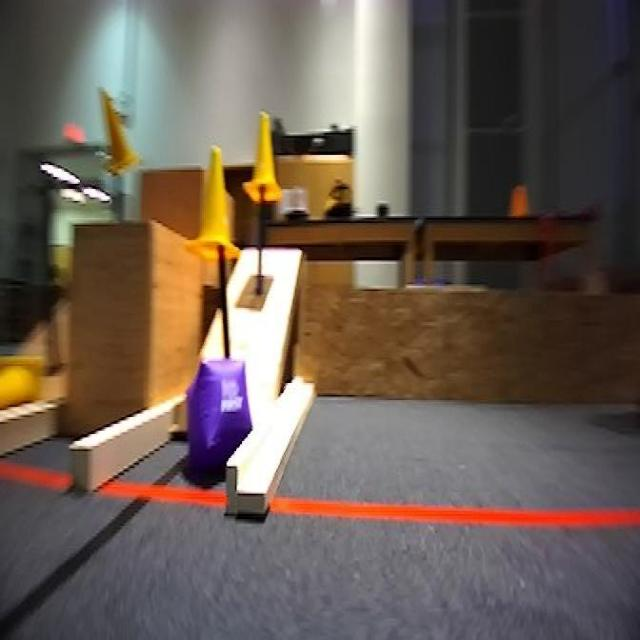frc_cone: (192, 145, 243, 267), (94, 81, 139, 186), (246, 111, 286, 204), (0, 346, 44, 405)
frc_cube: (183, 352, 249, 468)
